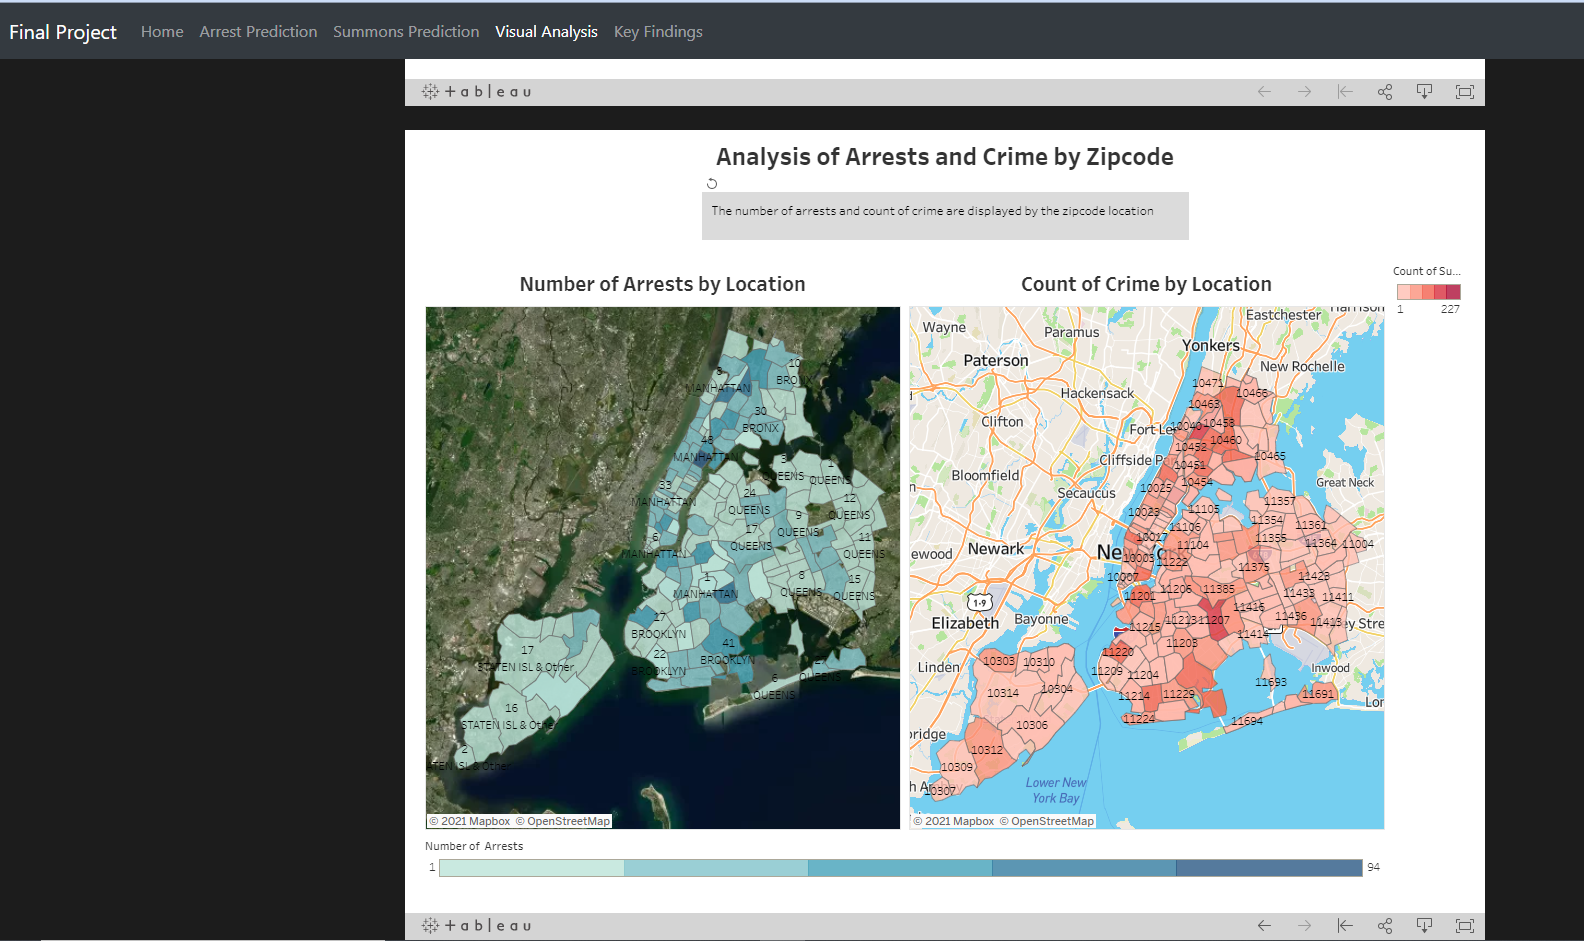

What the dashboard file says about the page in this screenshot:
{"tool":"tableau","page":{"name":"Dashboard 2","canvas":[1000,1000],"units":"permille","ordinal":1},"visuals":[{"type":"worksheet","title":"Number of Arrests","mark":"Automatic","box":[4.6,10.3,472.2,882.4]},{"type":"worksheet","title":"Count of Crime","mark":"Automatic","box":[476.8,10.3,472.3,882.4]},{"type":"legend","title":"Count of Crime","param":"[federated.1g1g2zq0k2cyah18wx7it1v3rp9k].[cnt:SUSPECTED_CRIME_DESCRIPTION:qk]","box":[949.1,10.3,46.3,938]},{"type":"legend","title":"Number of Arrests","param":"[federated.1g1g2zq0k2cyah18wx7it1v3rp9k].[cnt:SUSPECT_ARRESTED_FLAG:qk]","box":[4.6,892.8,944.4,96.9]}]}

Visuals, with their boxes on the dashboard's canvas, which has no fixed pixel size, in thousandths of its width and height (x1, y1, x2, y2). These are canvas units, not pixel positions in the 1584x941 screenshot, which may show the page scaled, cropped or inside an application window:
"Number of Arrests" worksheet: bbox=(5, 10, 477, 893)
"Count of Crime" worksheet: bbox=(477, 10, 949, 893)
"Count of Crime" legend: bbox=(949, 10, 995, 948)
"Number of Arrests" legend: bbox=(5, 893, 949, 990)
